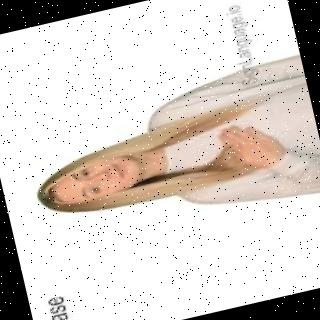Please: (202, 114, 283, 175)
